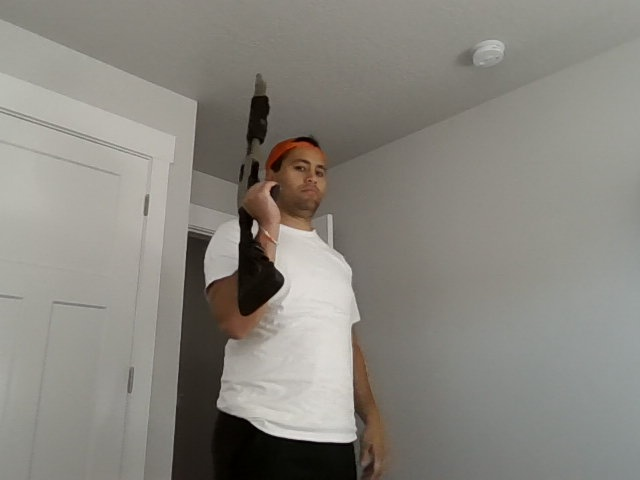shotgun: (234, 71, 285, 318)
